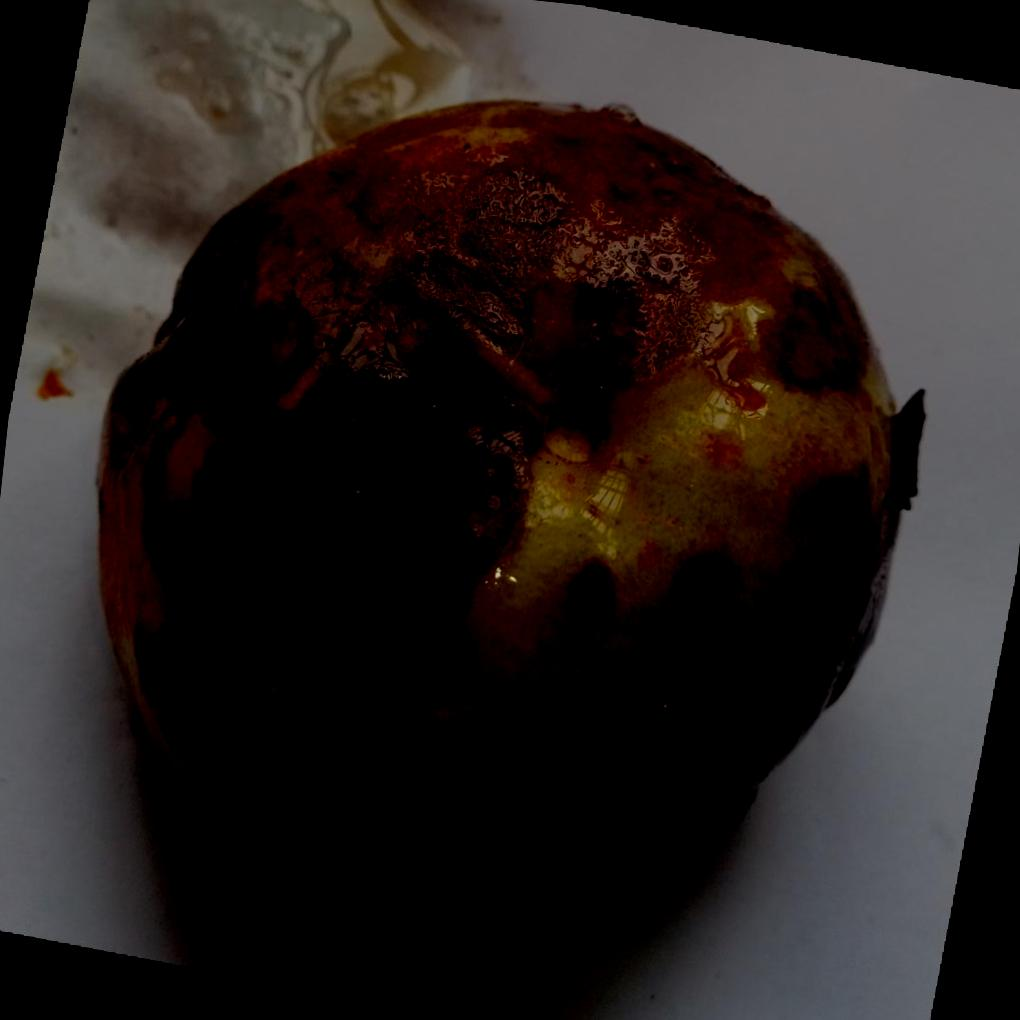FreshOrange: (89, 97, 924, 949)
